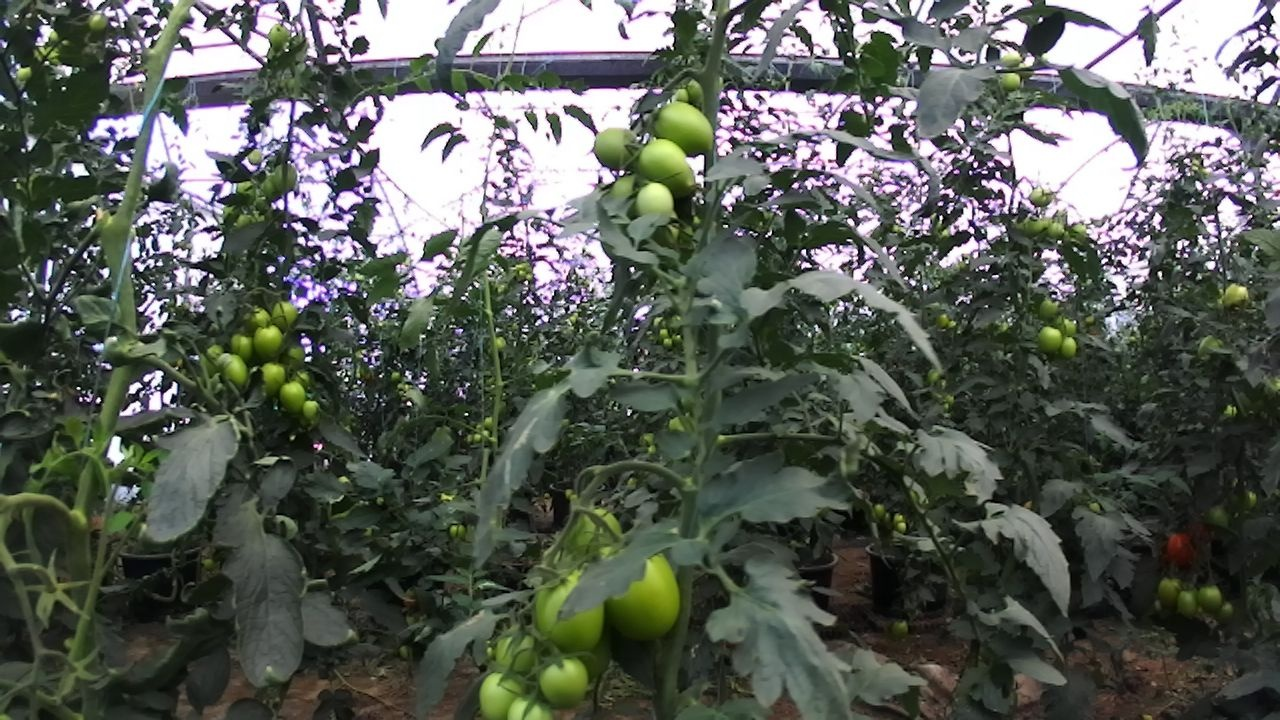tomato: (523, 560, 623, 665), (596, 541, 692, 648), (627, 132, 699, 202), (646, 96, 722, 161), (532, 649, 598, 713), (471, 663, 526, 720), (631, 178, 685, 230), (585, 122, 644, 168), (249, 321, 292, 364), (1217, 274, 1258, 318), (1191, 325, 1232, 365), (215, 351, 256, 391), (259, 20, 303, 56), (264, 295, 305, 331), (1160, 529, 1198, 567), (1200, 499, 1238, 536), (1191, 580, 1226, 619), (1155, 572, 1189, 612), (256, 358, 291, 396), (1168, 584, 1203, 619), (277, 379, 308, 417), (82, 4, 115, 38), (884, 613, 917, 646), (225, 329, 259, 361), (271, 160, 301, 196), (1034, 324, 1066, 357), (232, 175, 262, 209), (282, 339, 311, 372), (1024, 181, 1055, 211), (1050, 310, 1079, 342), (296, 394, 325, 424), (1052, 331, 1082, 359), (997, 66, 1023, 96), (261, 171, 285, 203), (1034, 296, 1062, 323), (1020, 213, 1046, 240), (1045, 218, 1068, 243), (445, 518, 468, 543), (243, 144, 265, 169), (872, 500, 888, 521), (891, 510, 907, 529), (895, 519, 910, 536), (661, 334, 676, 351), (656, 325, 671, 342)
